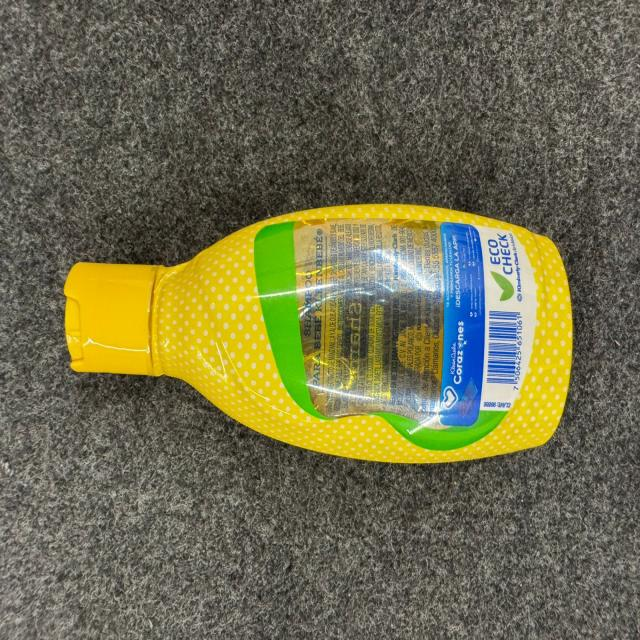Shampoo KleenBebe Manzanilla 250ml: (63, 203, 573, 463)
